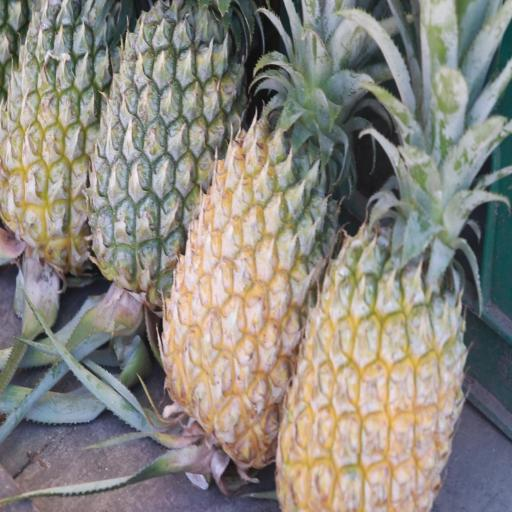------------------------------: (0, 0, 127, 291)
Pineapple - v8 v1: (155, 0, 342, 482), (273, 162, 472, 512)
